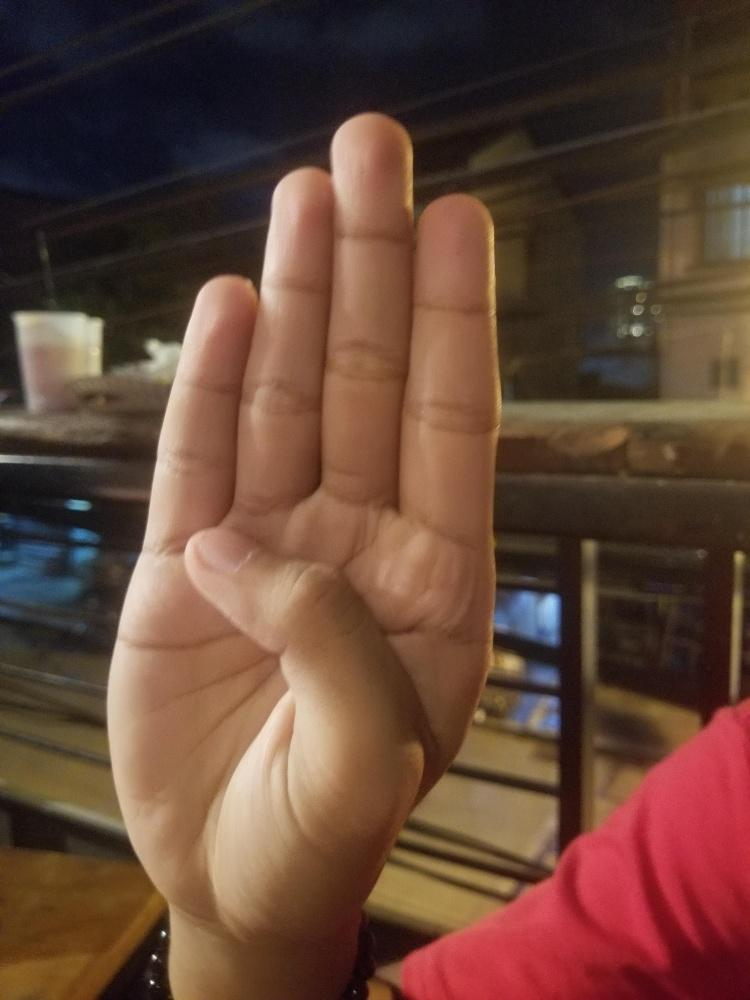b: (105, 112, 499, 890)
